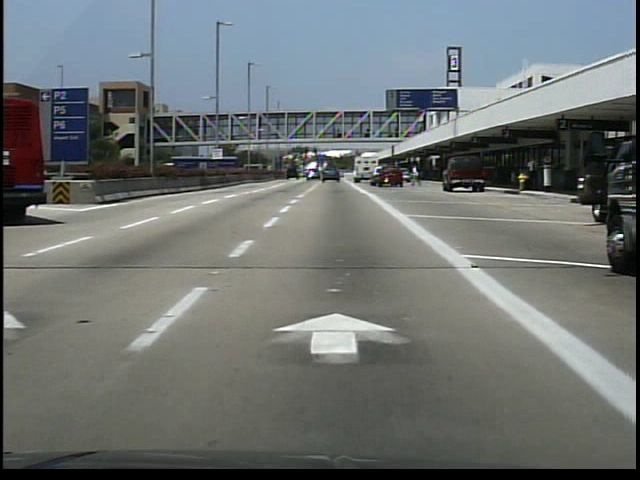person: (523, 155, 542, 198), (410, 168, 424, 190)
